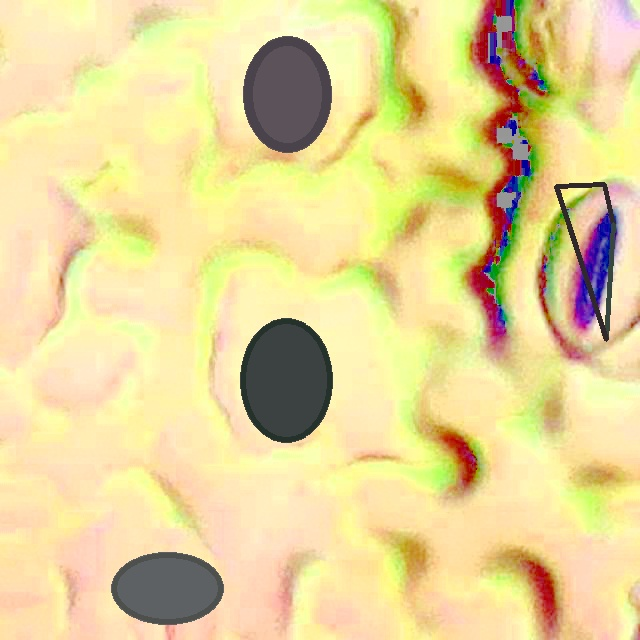close: (240, 318, 332, 442), (242, 35, 331, 152), (111, 553, 223, 623)
open: (554, 182, 615, 341)
